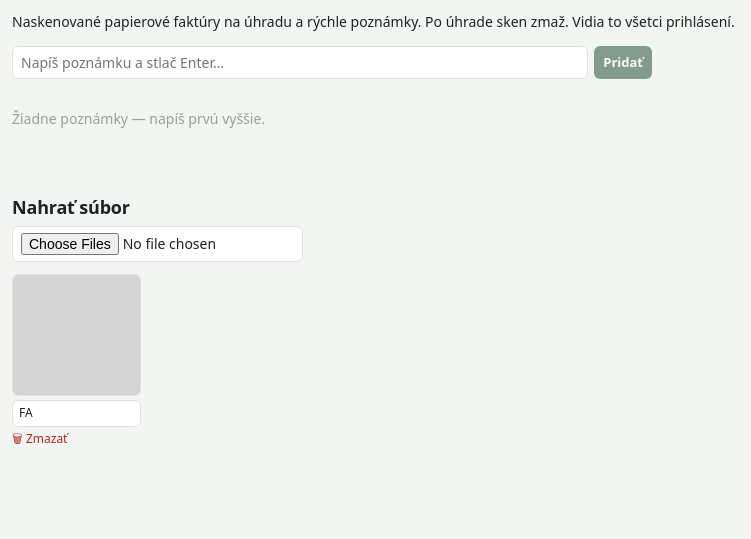
Test: zmazanie skenu vyžaduje POTVRDENIE — až klik na Áno zavolá deletePaymentScan a odstráni dlaždicu
Click the button with test id "uhrady-delete-s-1".
click(40, 439)  # box [12,431,68,448]
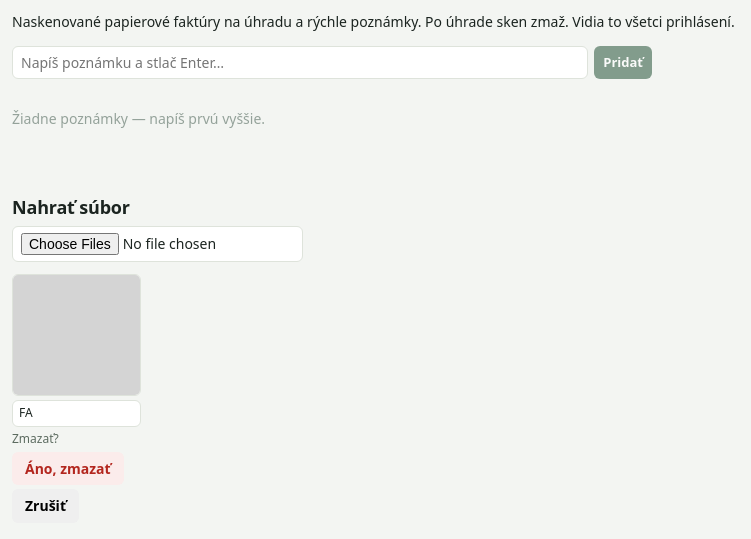
Result: the element with test id "uhrady-confirm-s-1" is shown at [12,431,141,523]
Click the button with test id "uhrady-confirm-yes-s-1".
click(68, 468)  # box [12,452,124,485]
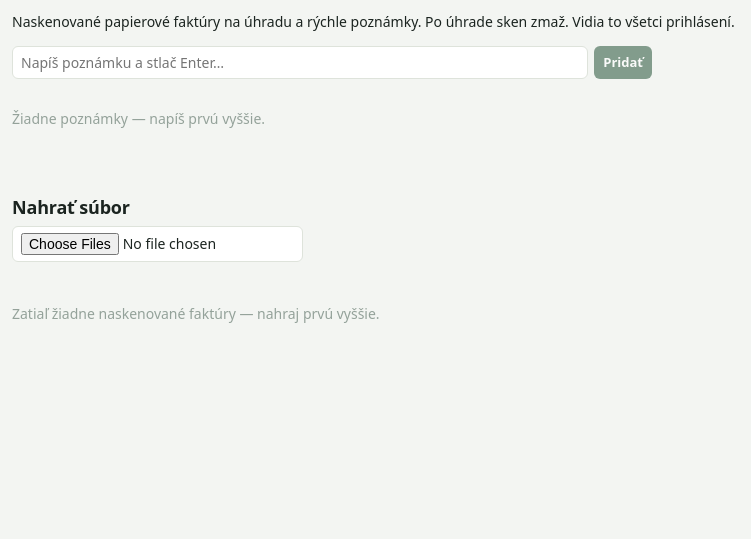
Result: the element with test id "uhrady-scan-s-1" is gone
